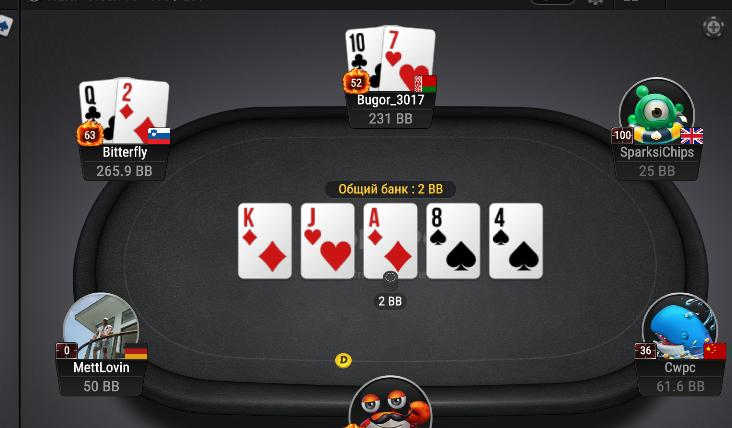10c: (344, 26, 383, 91)
2d: (115, 78, 169, 140)
4s: (490, 204, 542, 278)
7h: (383, 27, 433, 90)
8s: (427, 204, 480, 278)
Ad: (365, 205, 416, 277)
Jh: (301, 204, 354, 278)
Kd: (239, 204, 290, 278)
Qc: (79, 80, 117, 143)
